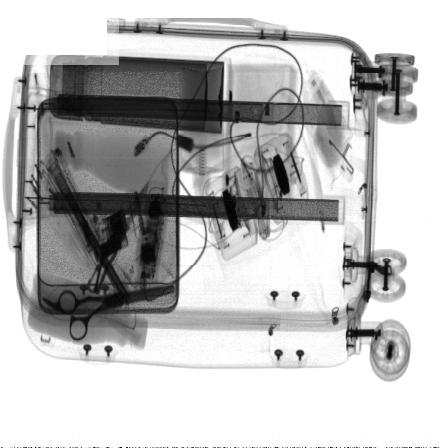Knife: (84, 179, 149, 296)
Scissors: (42, 283, 176, 342)
